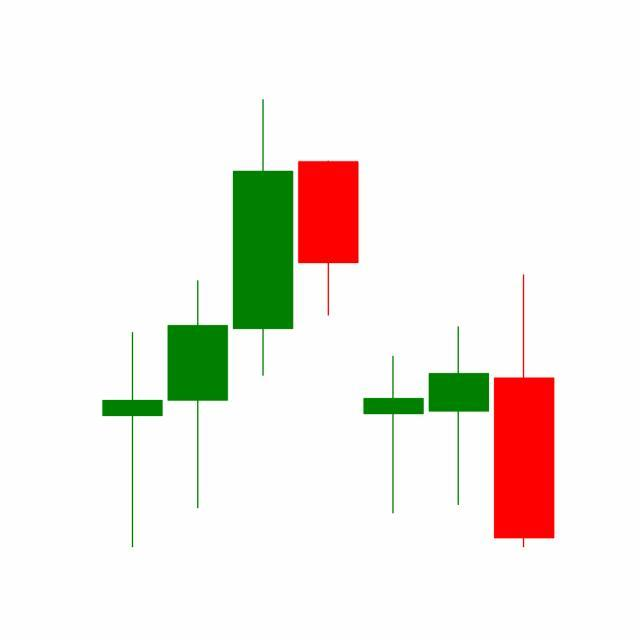Up-Down Gap Side-by-side White Lines: (295, 157, 492, 518)
